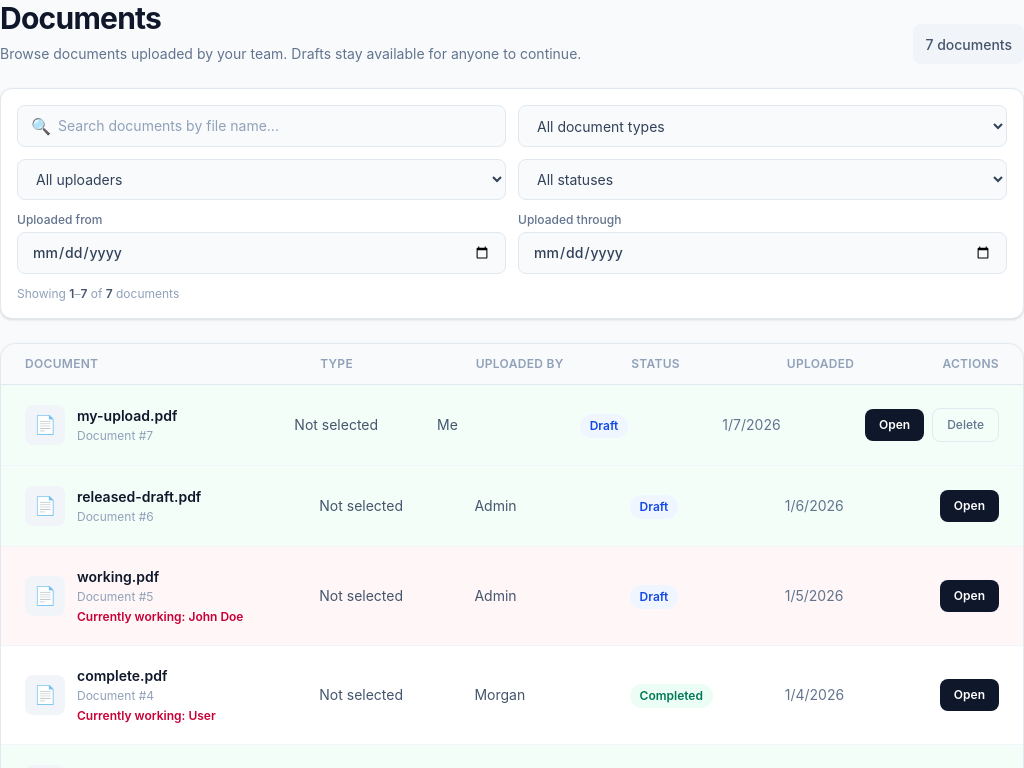
it: DocumentList status filter › offers all supported document statuses and filters the selected status
Select "Draft" in the dropdown named "Filter documents by status" at point(762, 180), box [518,159,1007,200]
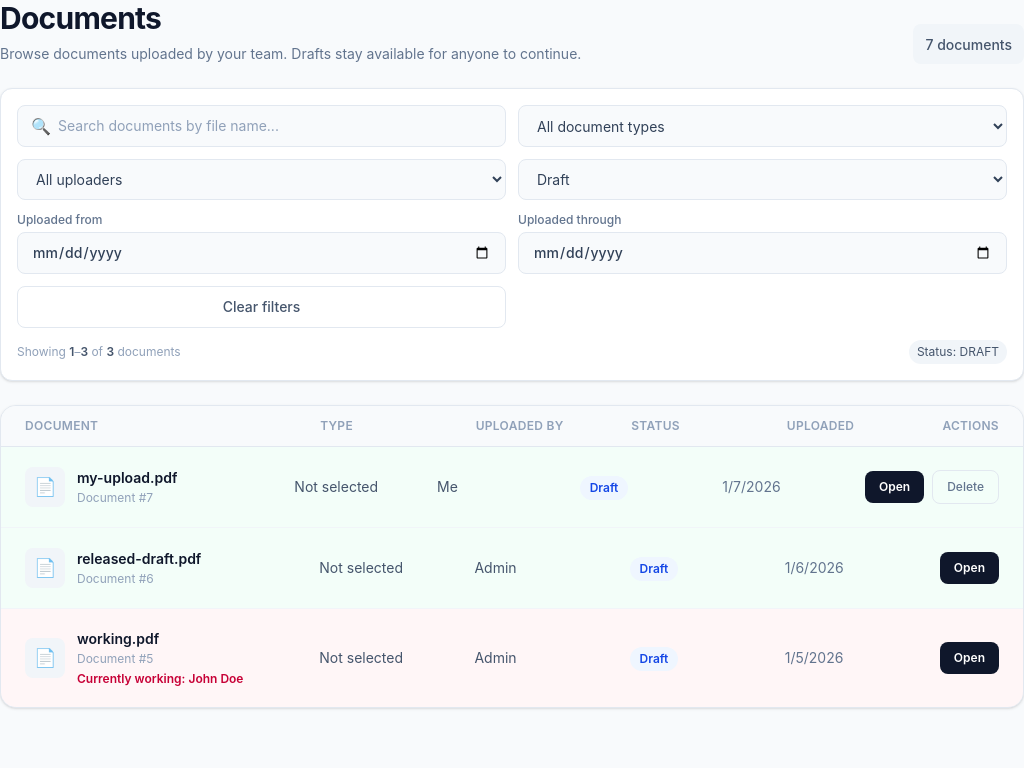
Expected: the heading "failed.pdf" is not shown
Now the number of headings "released-draft.pdf" is 2
